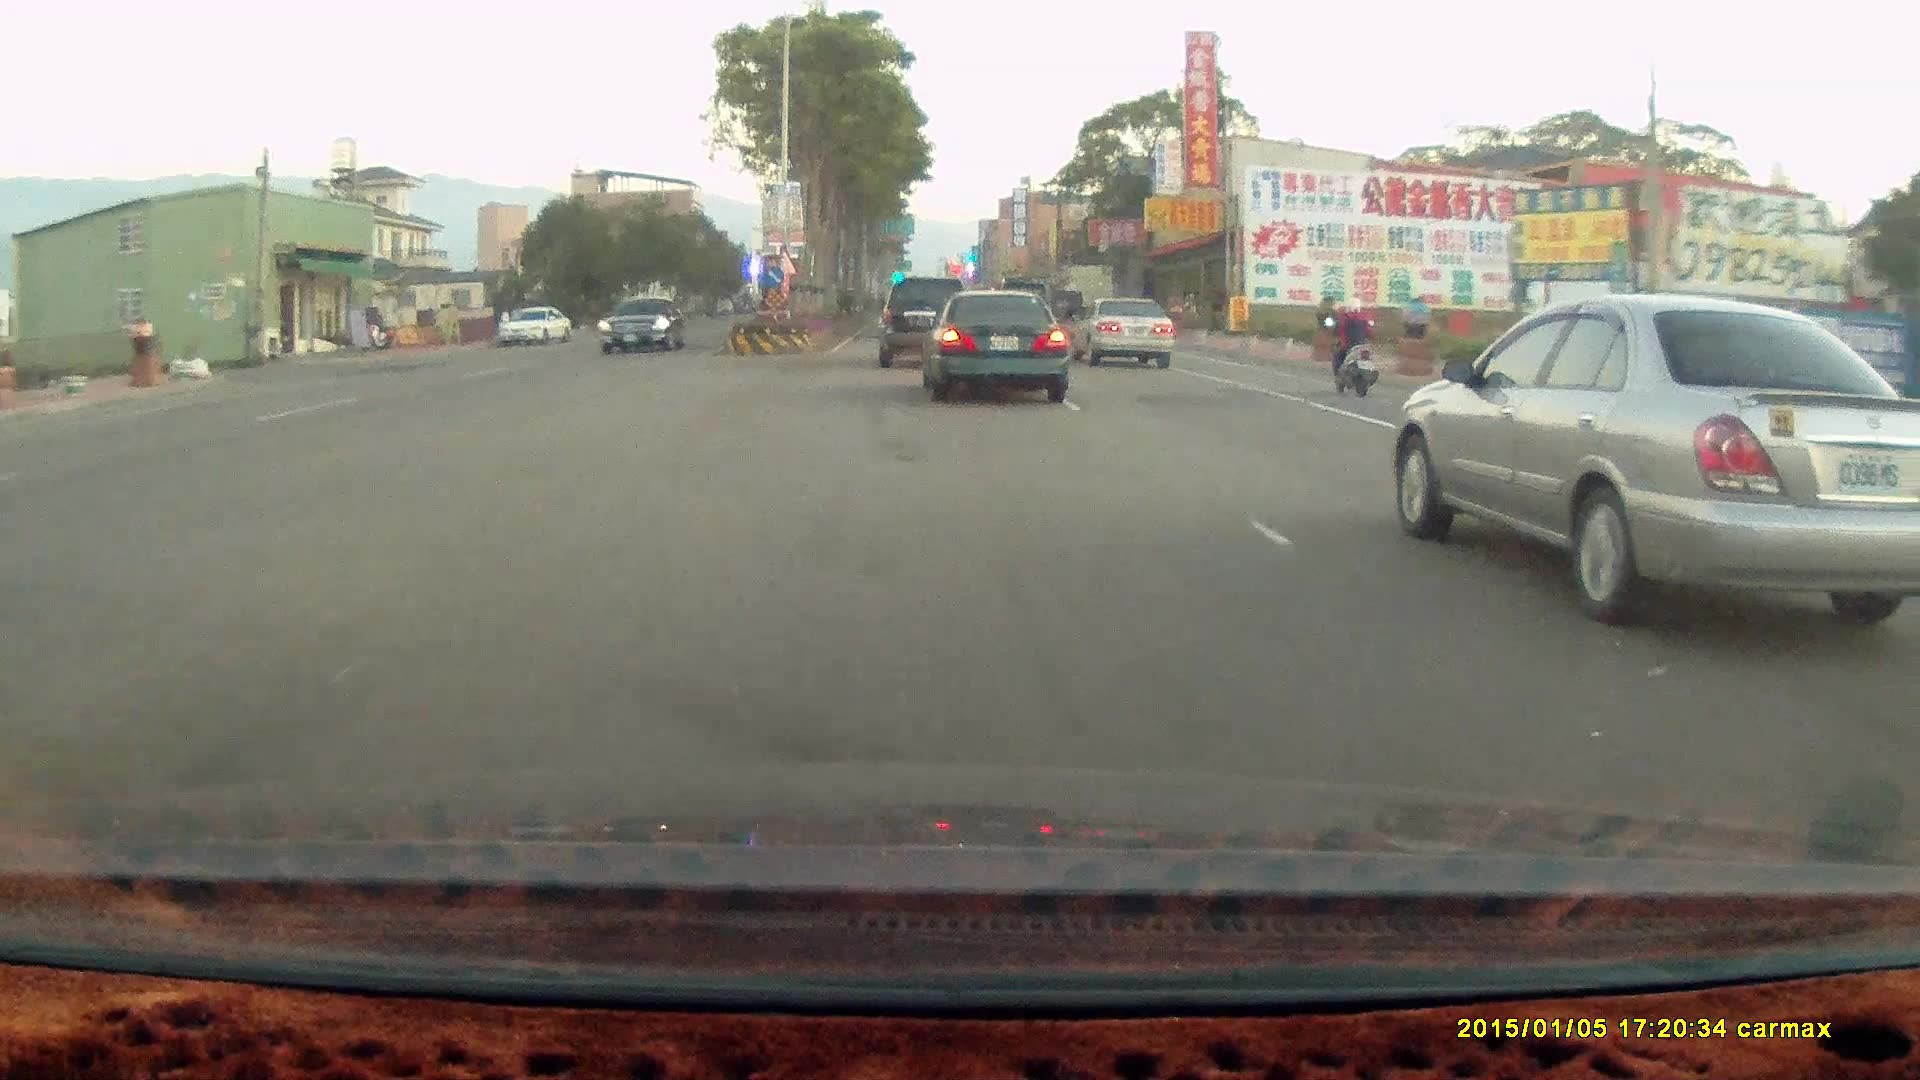rider: (1314, 287, 1387, 406), (1325, 297, 1379, 398)
vehicle: (1390, 296, 1920, 626), (916, 287, 1069, 402), (925, 294, 1072, 405), (880, 274, 976, 374), (877, 274, 971, 366), (1070, 294, 1175, 368), (1073, 299, 1178, 368), (598, 294, 686, 351), (606, 296, 691, 354), (498, 305, 575, 348), (498, 305, 572, 343)
